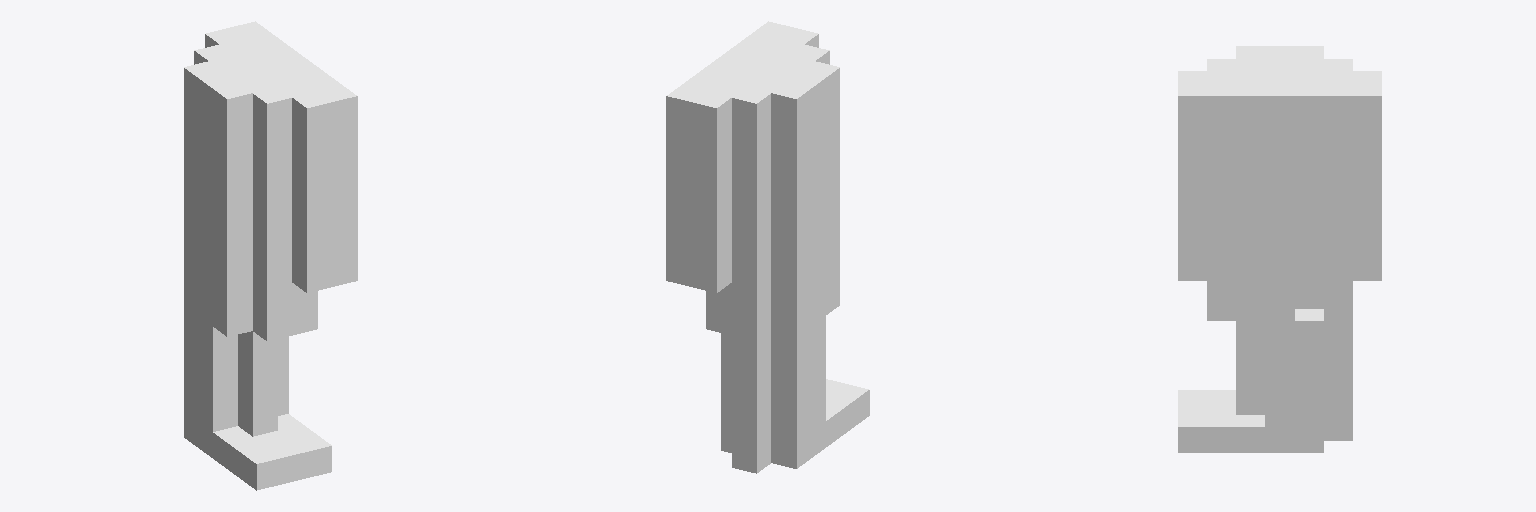
Rendered from char-132-leg_lgt_med_2a_sh_color.obj.
The picture shows the model from 3 angles: view 1: azimuth 30°, elevation 25°; view 2: azimuth 150°, elevation 25°; view 3: azimuth 270°, elevation 25°; orthographic projection.
Parts seen in each view (by area): view 1: leg_lgt_med_2a_sh_color; view 2: leg_lgt_med_2a_sh_color; view 3: leg_lgt_med_2a_sh_color.
Boxes of the visible parts, x1,y1,x2,y2 form: leg_lgt_med_2a_sh_color: [184, 21, 357, 490]; leg_lgt_med_2a_sh_color: [666, 21, 869, 473]; leg_lgt_med_2a_sh_color: [1178, 46, 1381, 452].
Size of the model in its own units: 0.4 by 1.4 by 0.7.